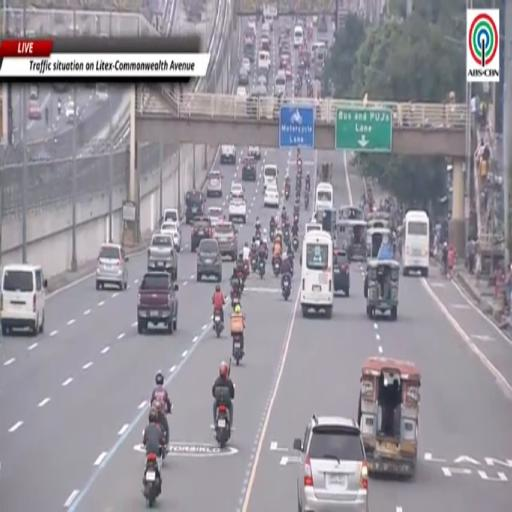bus: (300, 231, 333, 317), (402, 211, 429, 277), (315, 182, 333, 211), (95, 84, 108, 102)
car: (294, 415, 368, 511), (0, 264, 47, 335), (96, 244, 128, 290), (197, 238, 222, 282), (215, 222, 238, 261), (333, 248, 350, 296), (191, 217, 212, 251), (160, 221, 181, 251), (186, 190, 205, 223), (229, 197, 247, 223), (207, 170, 222, 197), (241, 158, 257, 181), (264, 185, 280, 208), (207, 206, 224, 227), (65, 101, 79, 123), (221, 144, 236, 164), (28, 100, 41, 120), (163, 208, 179, 222), (230, 183, 244, 198), (248, 146, 261, 161), (238, 69, 249, 86), (257, 74, 267, 89), (29, 85, 38, 100), (242, 57, 250, 73)
jeepney: (358, 357, 420, 477), (364, 260, 399, 321), (337, 218, 366, 261), (366, 227, 391, 259), (367, 212, 392, 229), (339, 205, 364, 219), (317, 163, 332, 183)
motorcycle: (143, 453, 162, 508), (215, 404, 230, 447), (232, 334, 244, 366), (213, 311, 223, 338), (282, 276, 291, 300), (237, 269, 245, 293), (273, 258, 281, 276), (258, 260, 265, 279), (251, 255, 258, 273), (262, 242, 269, 260), (232, 295, 240, 310), (244, 261, 250, 279), (292, 236, 299, 251), (283, 232, 290, 246), (296, 176, 301, 193), (285, 185, 290, 200), (304, 195, 309, 210), (255, 228, 261, 239), (270, 228, 275, 241), (294, 213, 299, 223)
truck: (137, 271, 178, 333), (147, 233, 178, 280)
